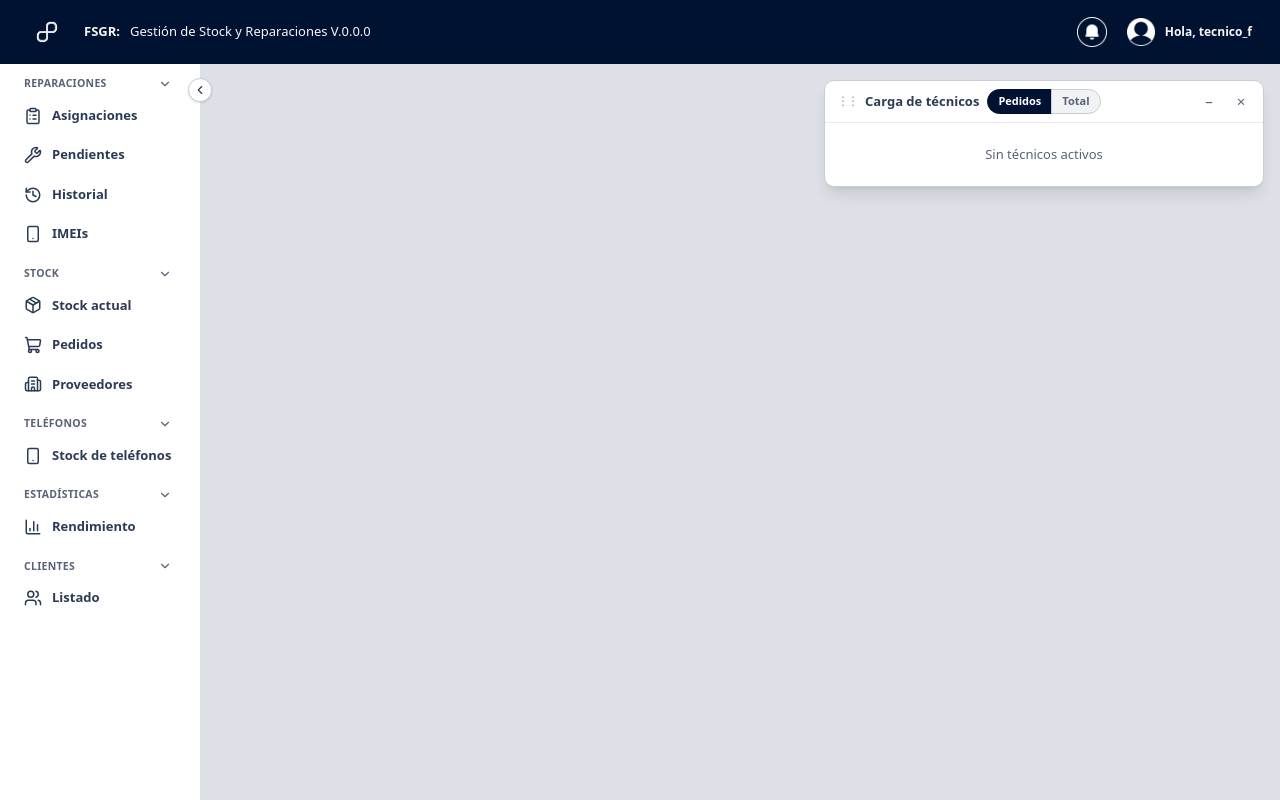
"Cambiar contraseña" desde el menú de usuario (spec §6.3, G6) › supertécnico: abre el diálogo sobre la vista actual, sin navegar
What coordinates should you click on to do the following:
click the button "Hola, tecnico_f"
I would click on:
 (1189, 32)
Its box is [1119,14,1260,50].
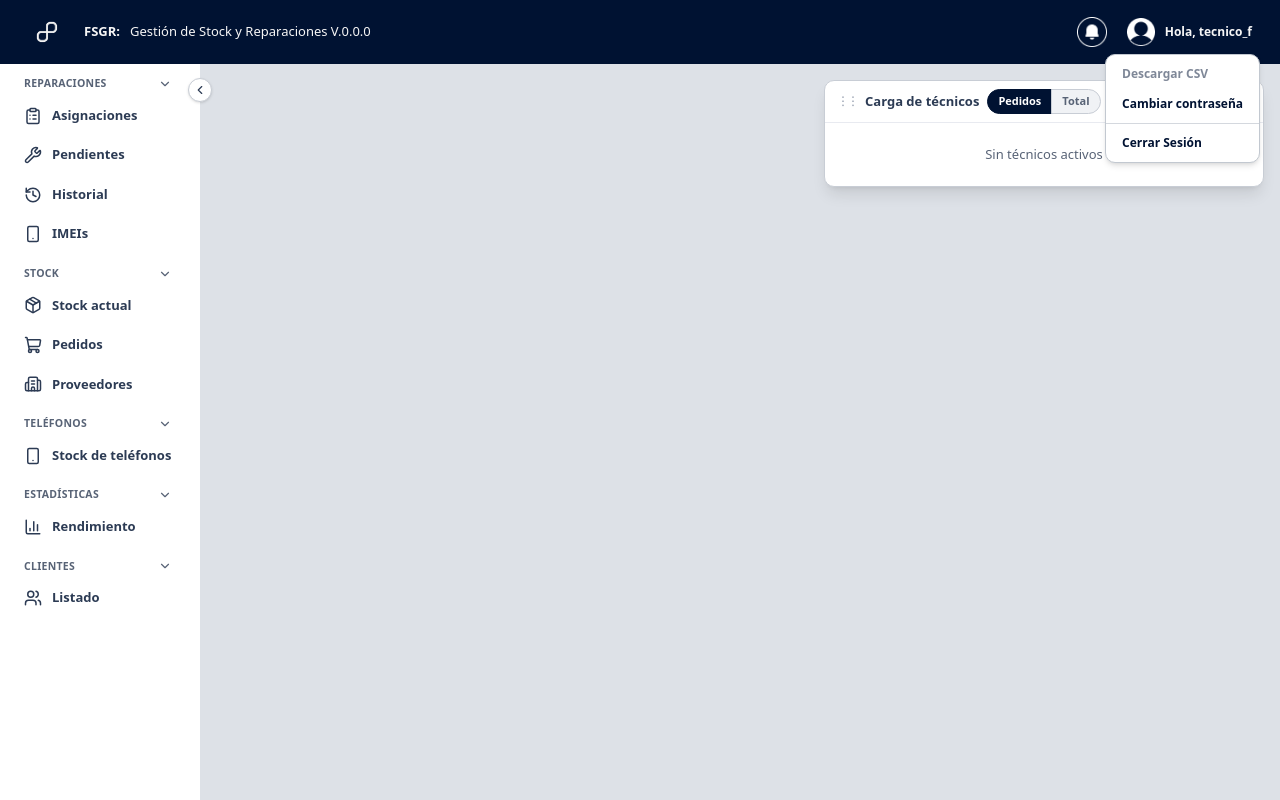
What coordinates should you click on to do the following:
click the menu item "Cambiar contraseña"
I would click on:
 (1183, 104)
Its box is [1122,95,1243,112].
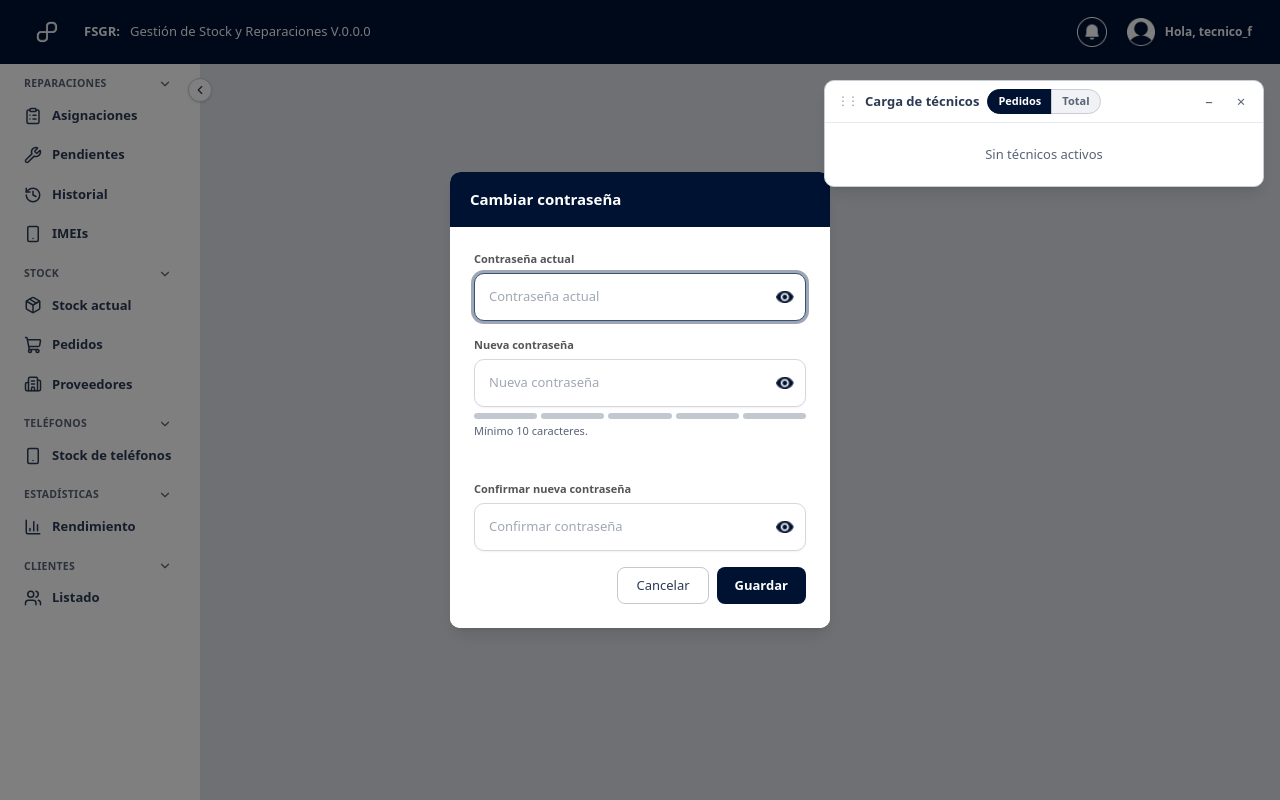
Expected: the text "FSGR:" is shown, [84,22,120,42]
Result: the password field labelled "Contraseña actual" is shown at [474,273,806,320]
